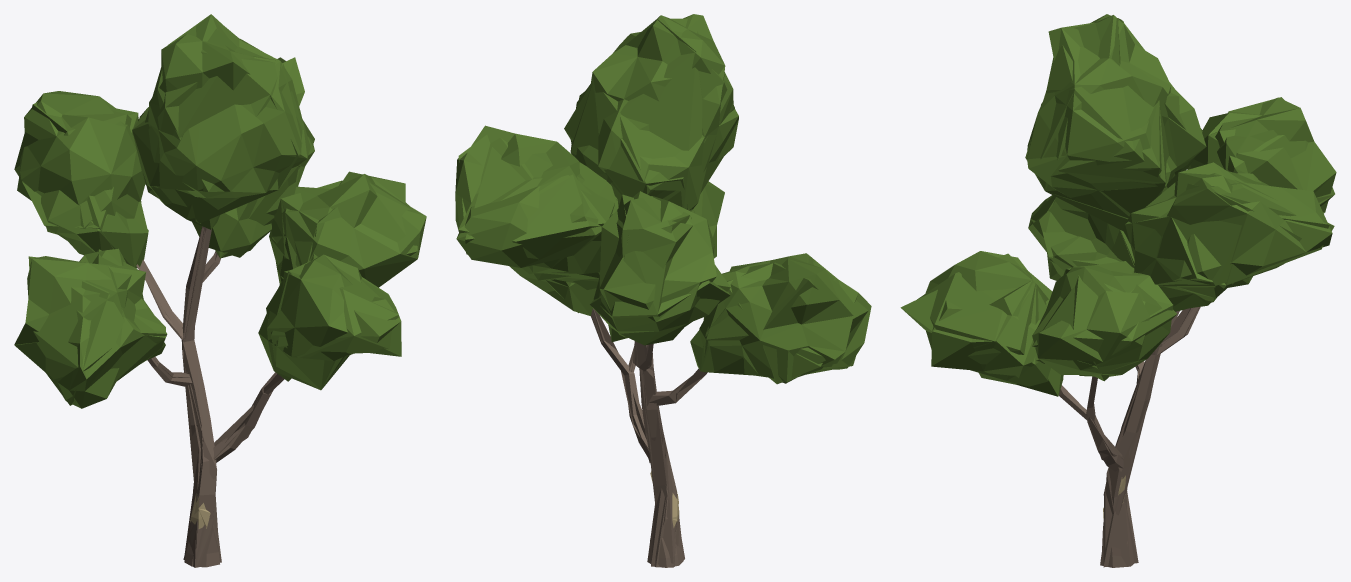
Rendered from B-Tree1.fbx.
The picture shows the model from 3 angles, left to right: view 1: azimuth 30°, elevation 25°; view 2: azimuth 150°, elevation 25°; view 3: azimuth 270°, elevation 25°; orthographic projection.
Visible parts, largest first — view 1: Tree_1_1_LOD0.004, Tree_1_1_LOD0; view 2: Tree_1_1_LOD0.004, Tree_1_1_LOD0; view 3: Tree_1_1_LOD0.004, Tree_1_1_LOD0.
Boxes of the visible parts, x1=… form: Tree_1_1_LOD0.004: x1=14, y1=14, x2=426, y2=408; Tree_1_1_LOD0: x1=136, y1=226, x2=284, y2=567; Tree_1_1_LOD0.004: x1=455, y1=14, x2=871, y2=384; Tree_1_1_LOD0: x1=591, y1=308, x2=707, y2=567; Tree_1_1_LOD0.004: x1=900, y1=14, x2=1336, y2=396; Tree_1_1_LOD0: x1=1058, y1=306, x2=1200, y2=567.
Bounding box in the file's own units: 584 × 784 × 564.
